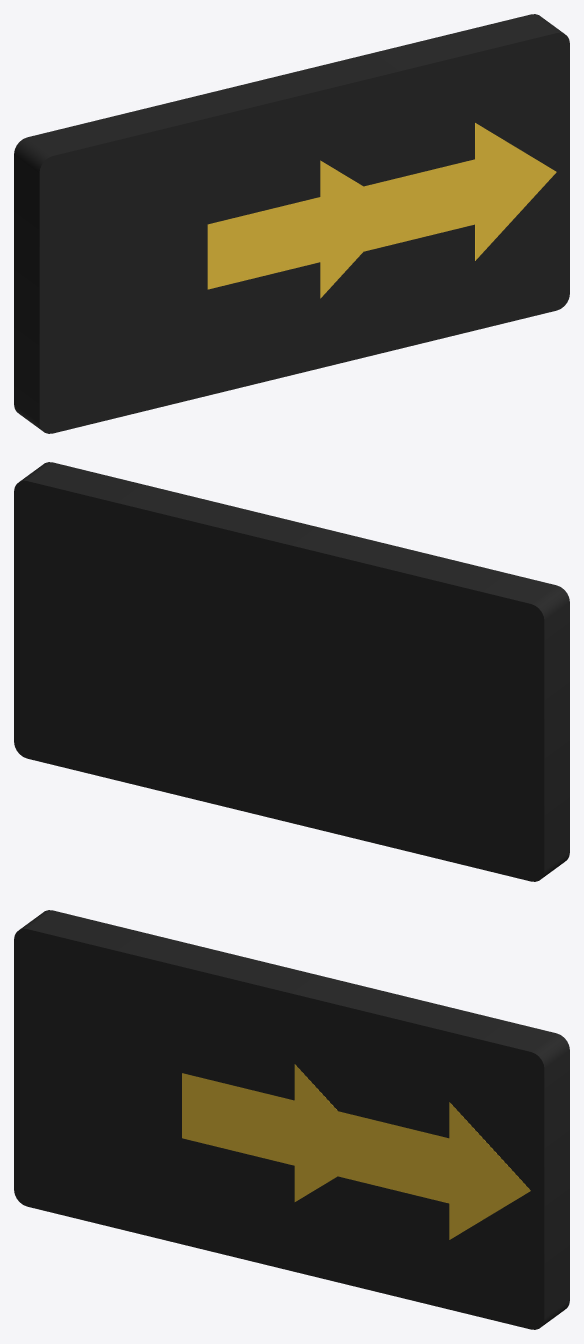
3 renders of one model, top to bottom at view 1: azimuth 30°, elevation 25°; view 2: azimuth 150°, elevation 25°; view 3: azimuth 330°, elevation 25°, orthographic.
Parts seen in each view (by area): view 1: KR44_r00, KR44_s251, KR44_s250; view 2: KR44_r00; view 3: KR44_r00, KR44_s251, KR44_s250.
Part boxes in pixels (x1,y1,x2,y2): KR44_r00: [14, 14, 569, 433]; KR44_s251: [362, 123, 556, 260]; KR44_s250: [207, 160, 363, 298]; KR44_r00: [14, 462, 569, 881]; KR44_r00: [14, 910, 569, 1329]; KR44_s251: [336, 1102, 530, 1239]; KR44_s250: [182, 1064, 337, 1201].
Bounding box in the file's own units: 1.2 × 0.6 × 0.1008.
